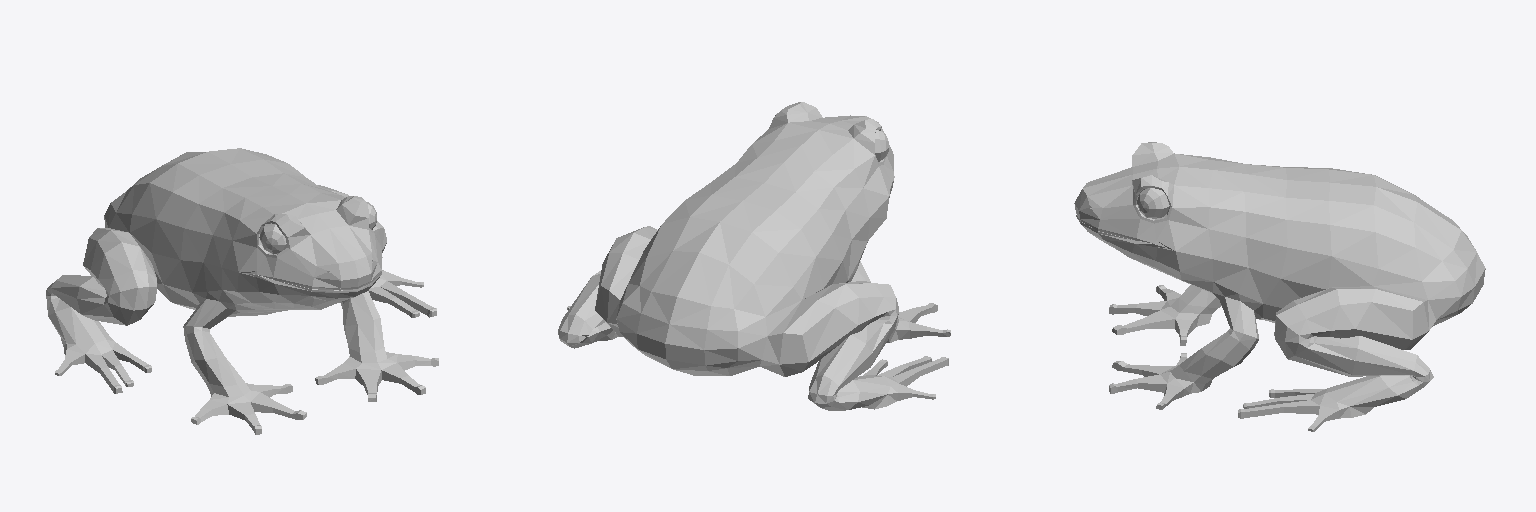
File: frog.obj
3 views of the same model, side by side, from view 1: azimuth 30°, elevation 25°; view 2: azimuth 150°, elevation 25°; view 3: azimuth 270°, elevation 25° (orthographic).
Parts seen in each view (by area): view 1: frog; view 2: frog; view 3: frog.
Part boxes in pixels (x1,y1,x2,y2): frog: (46,148,438,434); frog: (558,102,950,410); frog: (1074,142,1485,431).
Bounding box in the file's own units: 3.64 × 1.83 × 3.51.